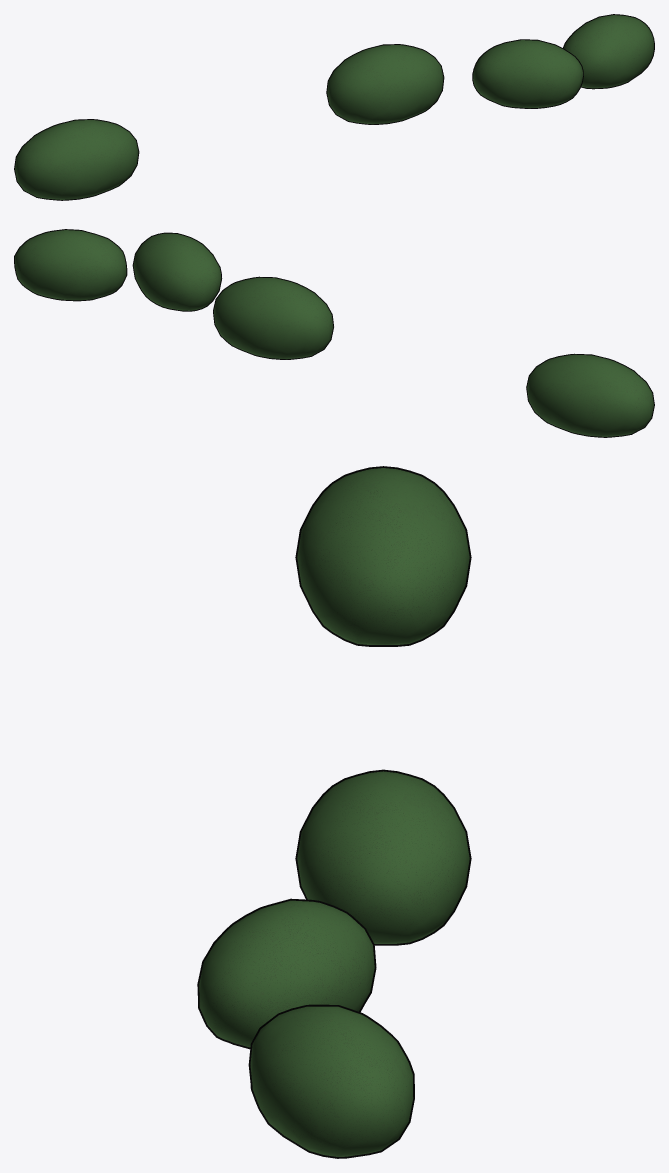
The model's file is Arbustos.obj.
The picture shows the model from 3 angles, top to bottom: view 1: azimuth 30°, elevation 25°; view 2: azimuth 150°, elevation 25°; view 3: azimuth 270°, elevation 25°; orthographic projection. The views are drawn at different scales.
Parts seen in each view (by area): view 1: Arbustos; view 2: Arbustos; view 3: Arbustos.
Boxes of the visible parts, <box> form: Arbustos: <box>14,14,654,200</box>; Arbustos: <box>14,229,654,437</box>; Arbustos: <box>197,466,471,1158</box>.
Size of the model in its own units: 15.85 by 1.79 by 3.01.
Materials: 2 (2 with a texture image).
